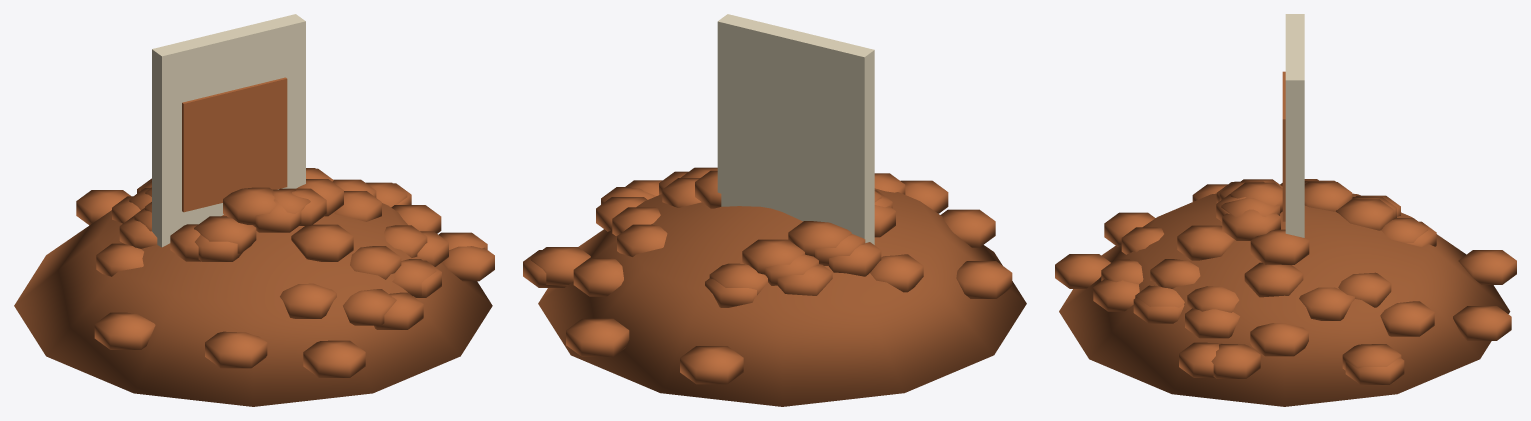
The model's file is Veg_Lentil.fbx.
The picture shows the model from 3 angles, left to right: view 1: azimuth 30°, elevation 25°; view 2: azimuth 150°, elevation 25°; view 3: azimuth 270°, elevation 25°; orthographic projection. The views are drawn at different scales.
Visible parts, largest first — view 1: Veg_Lentil__Stack, Veg_Lentil__Seed; view 2: Veg_Lentil__Stack, Veg_Lentil__Seed; view 3: Veg_Lentil__Stack, Veg_Lentil__Seed.
Part boxes in pixels (left/top/right/bottom): Veg_Lentil__Stack: left=14, top=168, right=494, bottom=406; Veg_Lentil__Seed: left=152, top=14, right=305, bottom=247; Veg_Lentil__Stack: left=523, top=167, right=1026, bottom=406; Veg_Lentil__Seed: left=717, top=14, right=874, bottom=244; Veg_Lentil__Stack: left=1055, top=179, right=1516, bottom=406; Veg_Lentil__Seed: left=1282, top=14, right=1304, bottom=237.
Bounding box in the file's own units: 0.144 × 0.09 × 0.1473.
